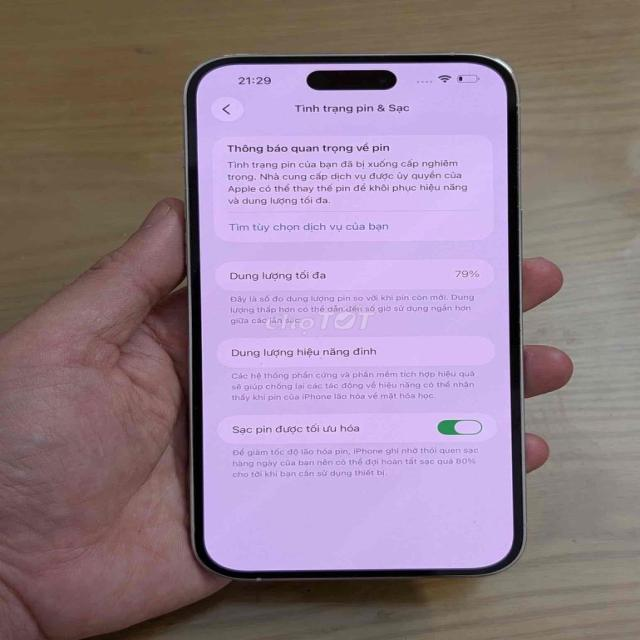gen_14: (168, 46, 535, 579)
